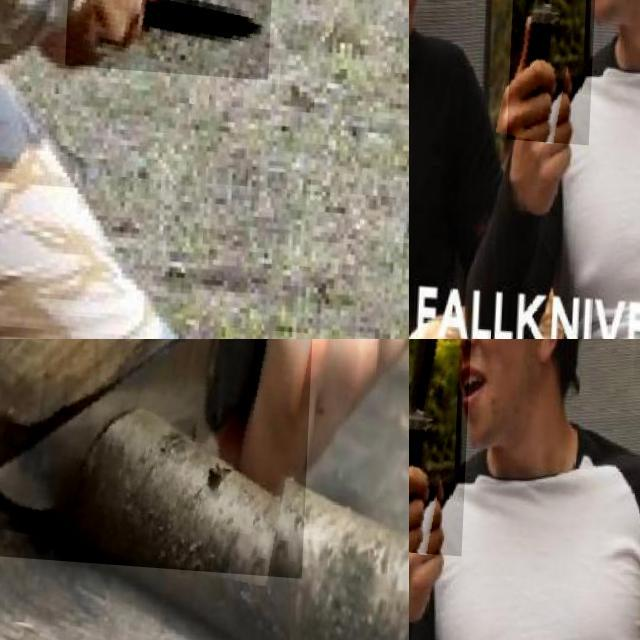-: (0, 339, 318, 572), (510, 0, 604, 171), (67, 0, 275, 73), (409, 339, 477, 550)
